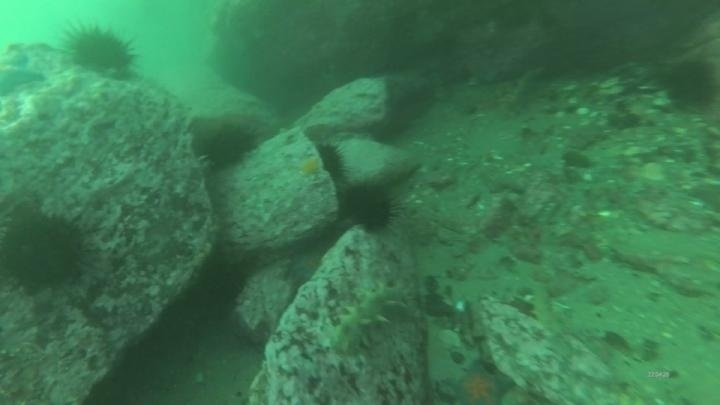echinus: (1, 210, 92, 294), (61, 21, 141, 79), (662, 56, 719, 113), (339, 180, 398, 233), (198, 122, 258, 171), (197, 256, 249, 310), (312, 140, 349, 184)
holothurian: (328, 278, 410, 356), (522, 281, 567, 339)
starfish: (440, 358, 517, 405), (1, 52, 47, 99), (286, 247, 327, 286)
